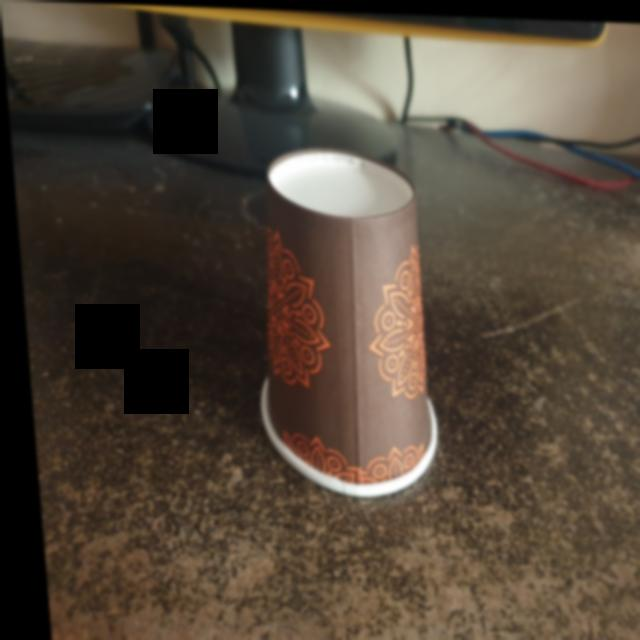cups: (235, 145, 450, 505)
